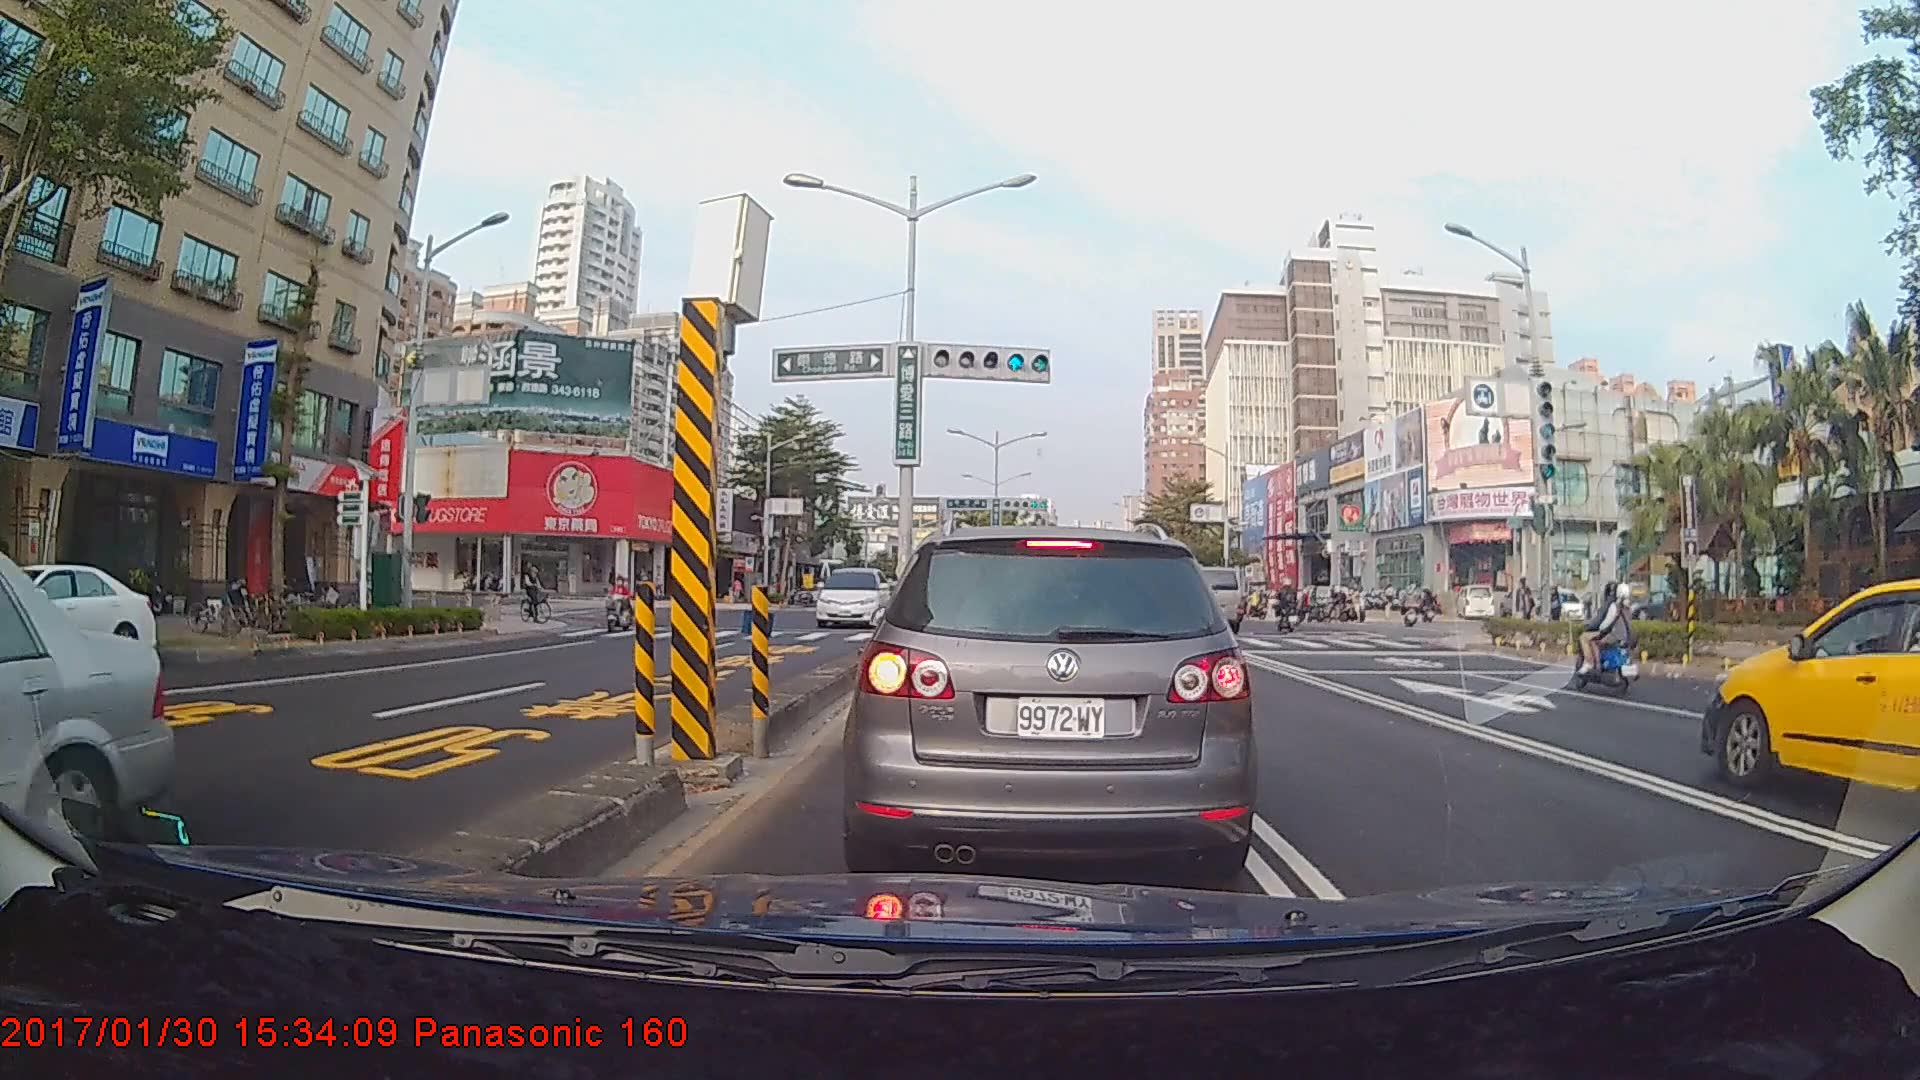rider: (1584, 575, 1650, 699), (518, 559, 561, 629), (600, 576, 638, 633), (1274, 580, 1306, 635)
vehicle: (852, 517, 1251, 879), (0, 533, 172, 907), (1701, 577, 1920, 818), (0, 561, 160, 671), (1140, 565, 1243, 632), (813, 566, 894, 630)
